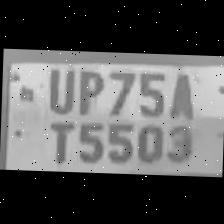0: (131, 118, 163, 162)
3: (162, 118, 196, 163)
5: (130, 66, 165, 116), (100, 116, 134, 162), (72, 118, 102, 162)
7: (101, 66, 134, 116)
A: (165, 67, 198, 118)
P: (72, 64, 104, 114)
T: (40, 115, 74, 163)
U: (42, 61, 76, 114)
